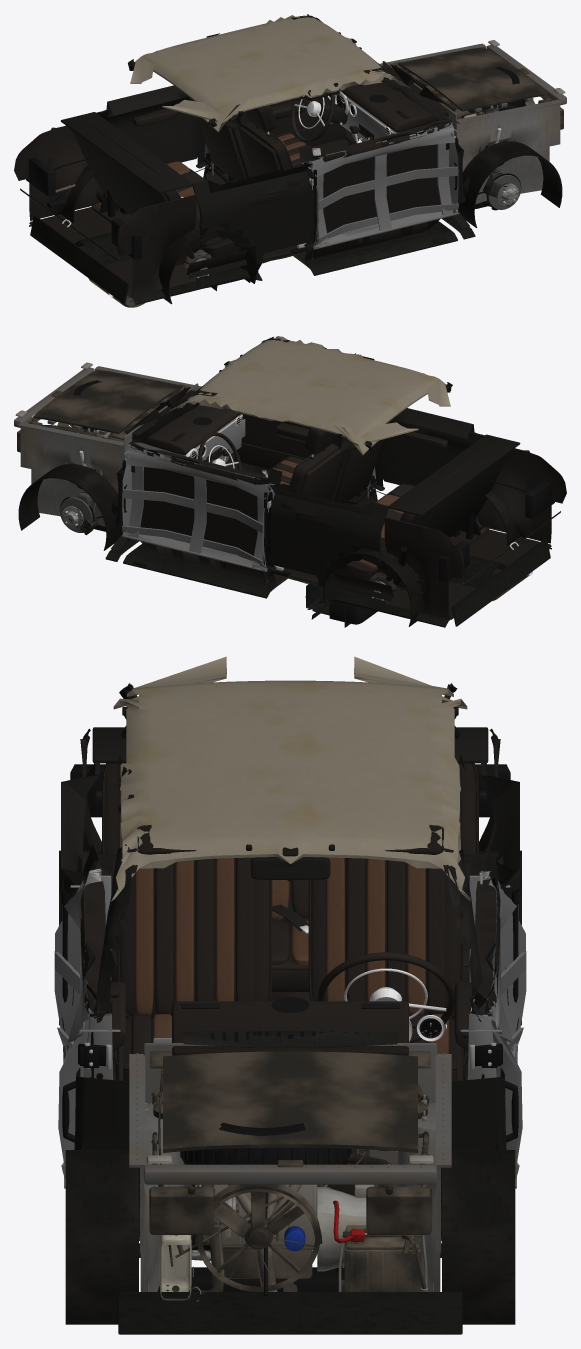
File: jabuti_completo.glb
3 views of the same model, one above another, from view 1: azimuth 30°, elevation 25°; view 2: azimuth 150°, elevation 25°; view 3: azimuth 270°, elevation 25° (orthographic). The views are drawn at different scales.
Parts seen in each view (by area): view 1: interior_forro_teto, interior_portamalas_carpete, interior_lateral_traseira_dir, door_card_fr_chapa, door_card_fr, engine_paralama_interno_dir, hood_manta, under_assoalho, interior_lateral_traseira_esq, interior_painel, interior_banco_traseiro, interior_portamalas_tampao (+18 smaller); view 2: interior_forro_teto, interior_portamalas_carpete, interior_lateral_traseira_esq, door_card_fl_chapa, door_card_fl, engine_paralama_interno_esq, hood_manta, under_assoalho, interior_lateral_traseira_dir, interior_painel, interior_banco_traseiro, interior_portamalas_tampao (+18 smaller); view 3: interior_forro_teto, hood_manta, interior_banco_dianteiro_dir, interior_banco_dianteiro_esq, under_saias, interior_painel, engine_travessa, under_caixa_roda_fl, under_caixa_roda_fr, engine_motor, interior_banco_traseiro, door_card_fl_chapa (+25 smaller).
Boxes of the visible parts, x1=… form: interior_forro_teto: x1=128, y1=15, x2=409, y2=132; interior_portamalas_carpete: x1=14, y1=125, x2=196, y2=297; interior_lateral_traseira_dir: x1=192, y1=163, x2=314, y2=273; door_card_fr_chapa: x1=303, y1=117, x2=459, y2=249; door_card_fr: x1=311, y1=119, x2=452, y2=233; engine_paralama_interno_dir: x1=455, y1=99, x2=562, y2=203; hood_manta: x1=398, y1=47, x2=547, y2=111; under_assoalho: x1=29, y1=216, x2=475, y2=304; interior_lateral_traseira_esq: x1=96, y1=85, x2=197, y2=198; interior_painel: x1=327, y1=64, x2=455, y2=141; interior_banco_traseiro: x1=72, y1=124, x2=264, y2=258; interior_portamalas_tampao: x1=61, y1=112, x2=193, y2=193; interior_forro_teto: x1=170, y1=336, x2=452, y2=455; interior_portamalas_carpete: x1=384, y1=448, x2=566, y2=619; interior_lateral_traseira_esq: x1=266, y1=484, x2=388, y2=596; door_card_fl_chapa: x1=121, y1=439, x2=275, y2=572; door_card_fl: x1=128, y1=441, x2=270, y2=555; engine_paralama_interno_esq: x1=18, y1=422, x2=125, y2=526; hood_manta: x1=33, y1=369, x2=182, y2=434; under_assoalho: x1=105, y1=539, x2=551, y2=627; interior_lateral_traseira_dir: x1=381, y1=408, x2=484, y2=521; interior_painel: x1=125, y1=387, x2=245, y2=460; interior_banco_traseiro: x1=316, y1=447, x2=509, y2=581; interior_portamalas_tampao: x1=387, y1=434, x2=520, y2=516; interior_forro_teto: x1=111, y1=656, x2=470, y2=901; hood_manta: x1=162, y1=1051, x2=418, y2=1152; interior_banco_dianteiro_dir: x1=112, y1=857, x2=272, y2=1080; interior_banco_dianteiro_esq: x1=308, y1=857, x2=468, y2=1080; under_saias: x1=118, y1=1292, x2=462, y2=1334; interior_painel: x1=153, y1=997, x2=444, y2=1055; engine_travessa: x1=143, y1=1149, x2=437, y2=1234; under_caixa_roda_fl: x1=442, y1=1150, x2=515, y2=1324; under_caixa_roda_fr: x1=65, y1=1150, x2=138, y2=1324; engine_motor: x1=195, y1=1149, x2=374, y2=1291; interior_banco_traseiro: x1=102, y1=763, x2=478, y2=1018; door_card_fl_chapa: x1=467, y1=875, x2=526, y2=1188.
Size of what is drawn, in the model's own units: 3.38 by 1.41 by 1.48.
52 materials, 52 textured.
